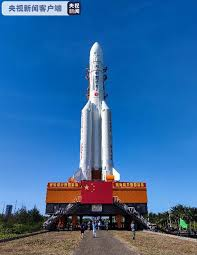ten_lua: (71, 35, 124, 186)
